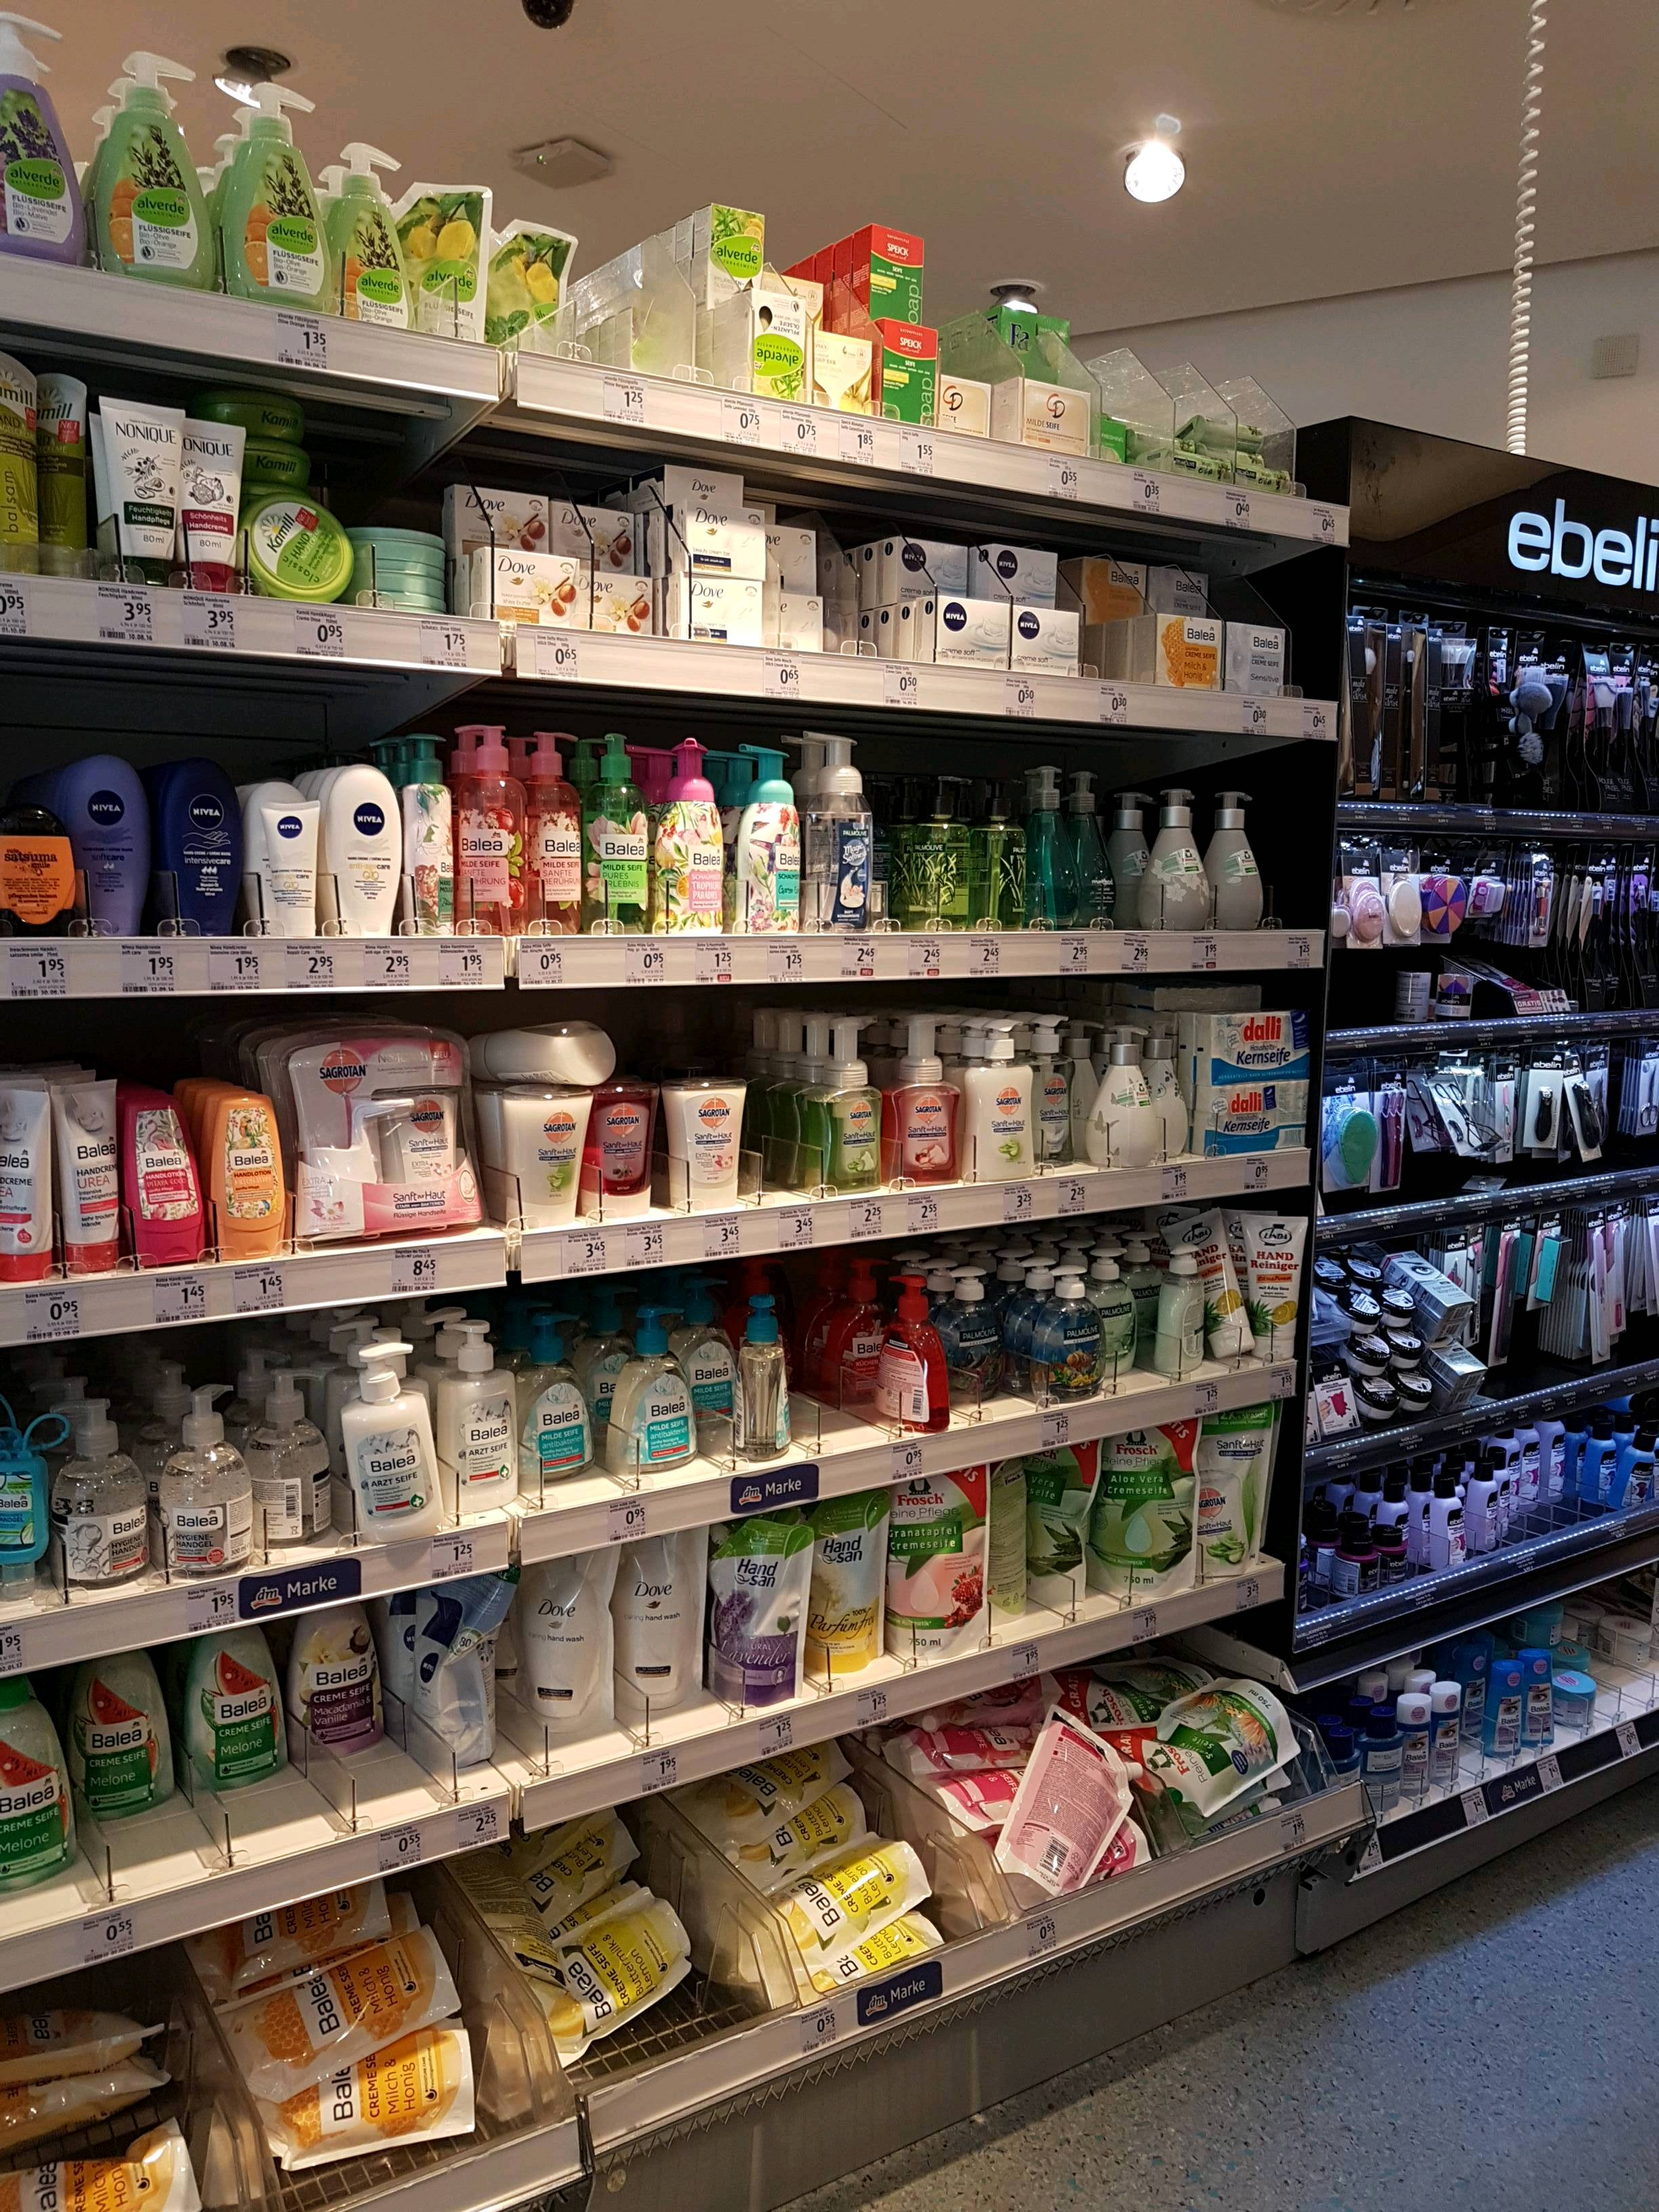Misplacement: (71, 1613, 422, 1912), (505, 1561, 615, 1782), (617, 1552, 734, 1745), (455, 486, 666, 582), (518, 1298, 601, 1522), (795, 1280, 894, 1463), (884, 533, 1072, 624), (1077, 557, 1281, 636), (948, 1270, 1046, 1423), (1098, 1256, 1178, 1397)
Out-of-stock: (744, 1085, 829, 1217)
